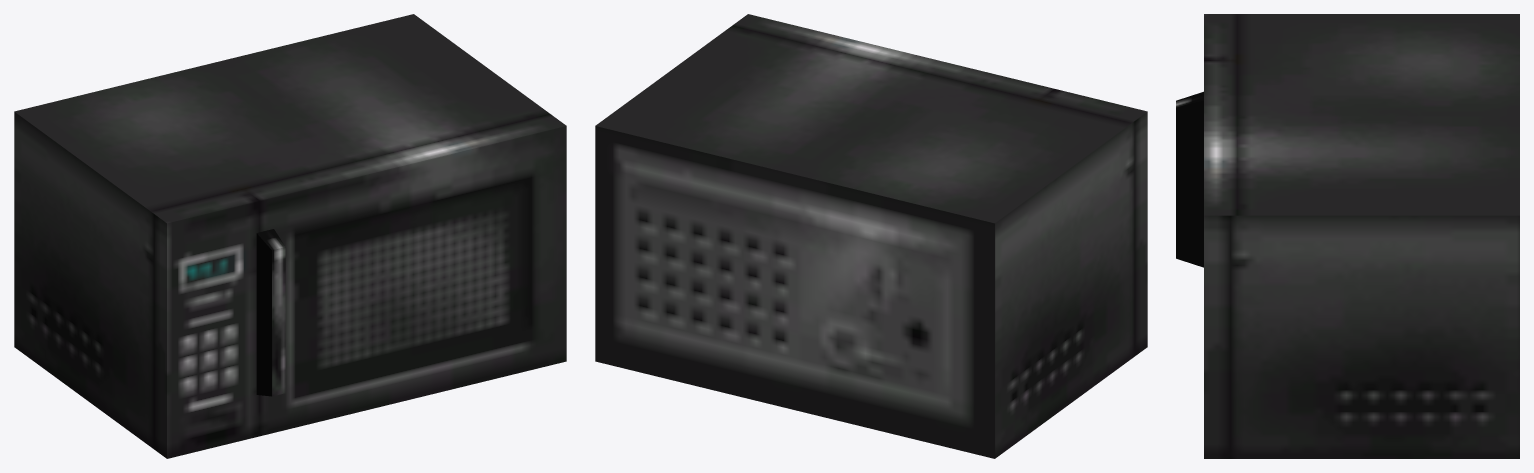
File: microwave.fbx
The picture shows the model from 3 angles, left to right: view 1: azimuth 30°, elevation 25°; view 2: azimuth 150°, elevation 25°; view 3: azimuth 270°, elevation 25°; orthographic projection. The views are drawn at different scales.
Visible parts, largest first — view 1: mesh_0; view 2: mesh_0; view 3: mesh_0.
Part boxes in pixels (x1,y1,x2,y2): mesh_0: (14, 14, 566, 458); mesh_0: (595, 14, 1147, 458); mesh_0: (1176, 14, 1519, 458).
Size of the model in its own units: 65.38 by 36.82 by 47.16.
Materials: 1 (1 with a texture image).
